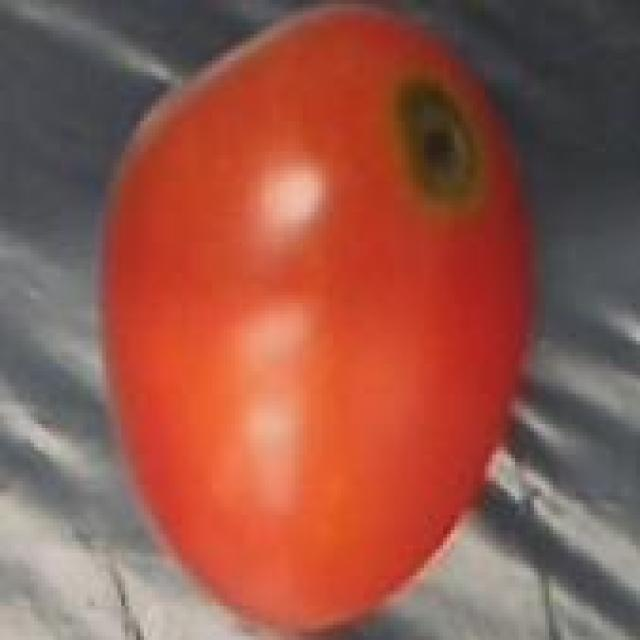overripe tomato: (94, 0, 556, 640)
